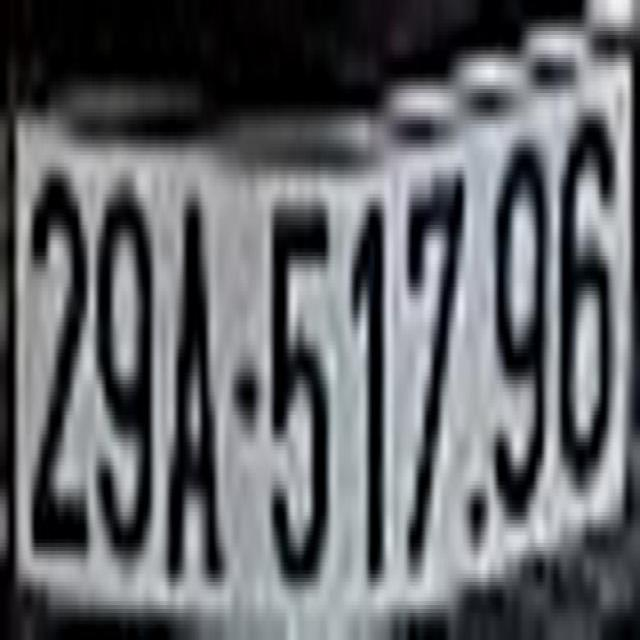1: (344, 186, 393, 605)
2: (30, 163, 90, 574)
5: (266, 186, 331, 578)
6: (558, 109, 613, 492)
7: (401, 174, 466, 578)
9: (96, 167, 155, 570), (488, 128, 546, 520)
A: (162, 182, 233, 594)
